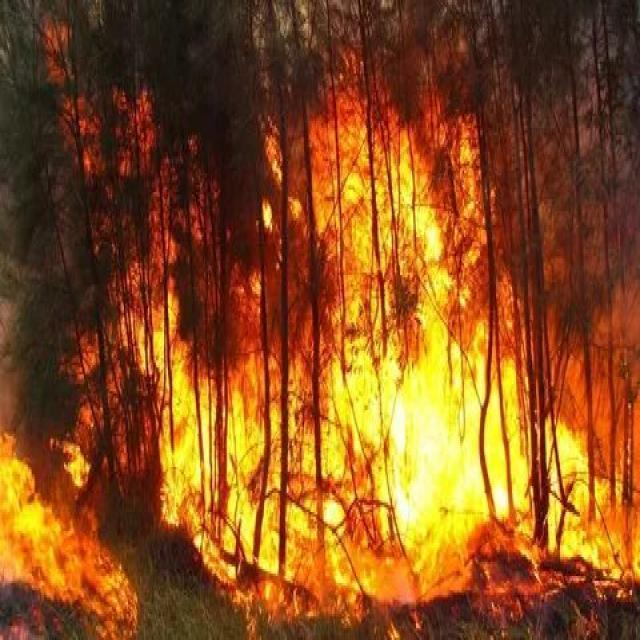Fire: (122, 76, 608, 623)
